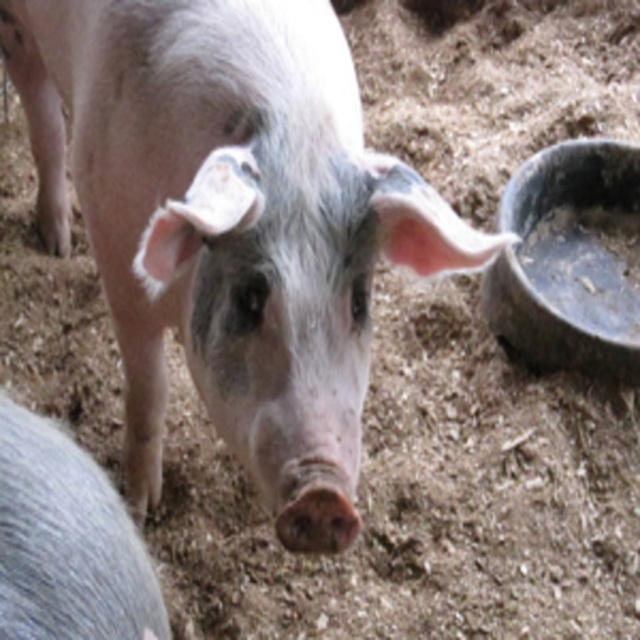Pig: (0, 0, 518, 558), (0, 395, 173, 637)
